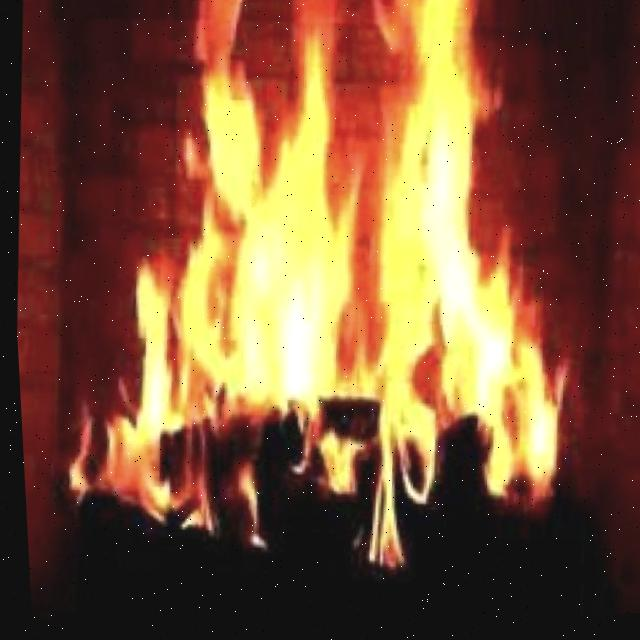Fire: (31, 0, 606, 614)
